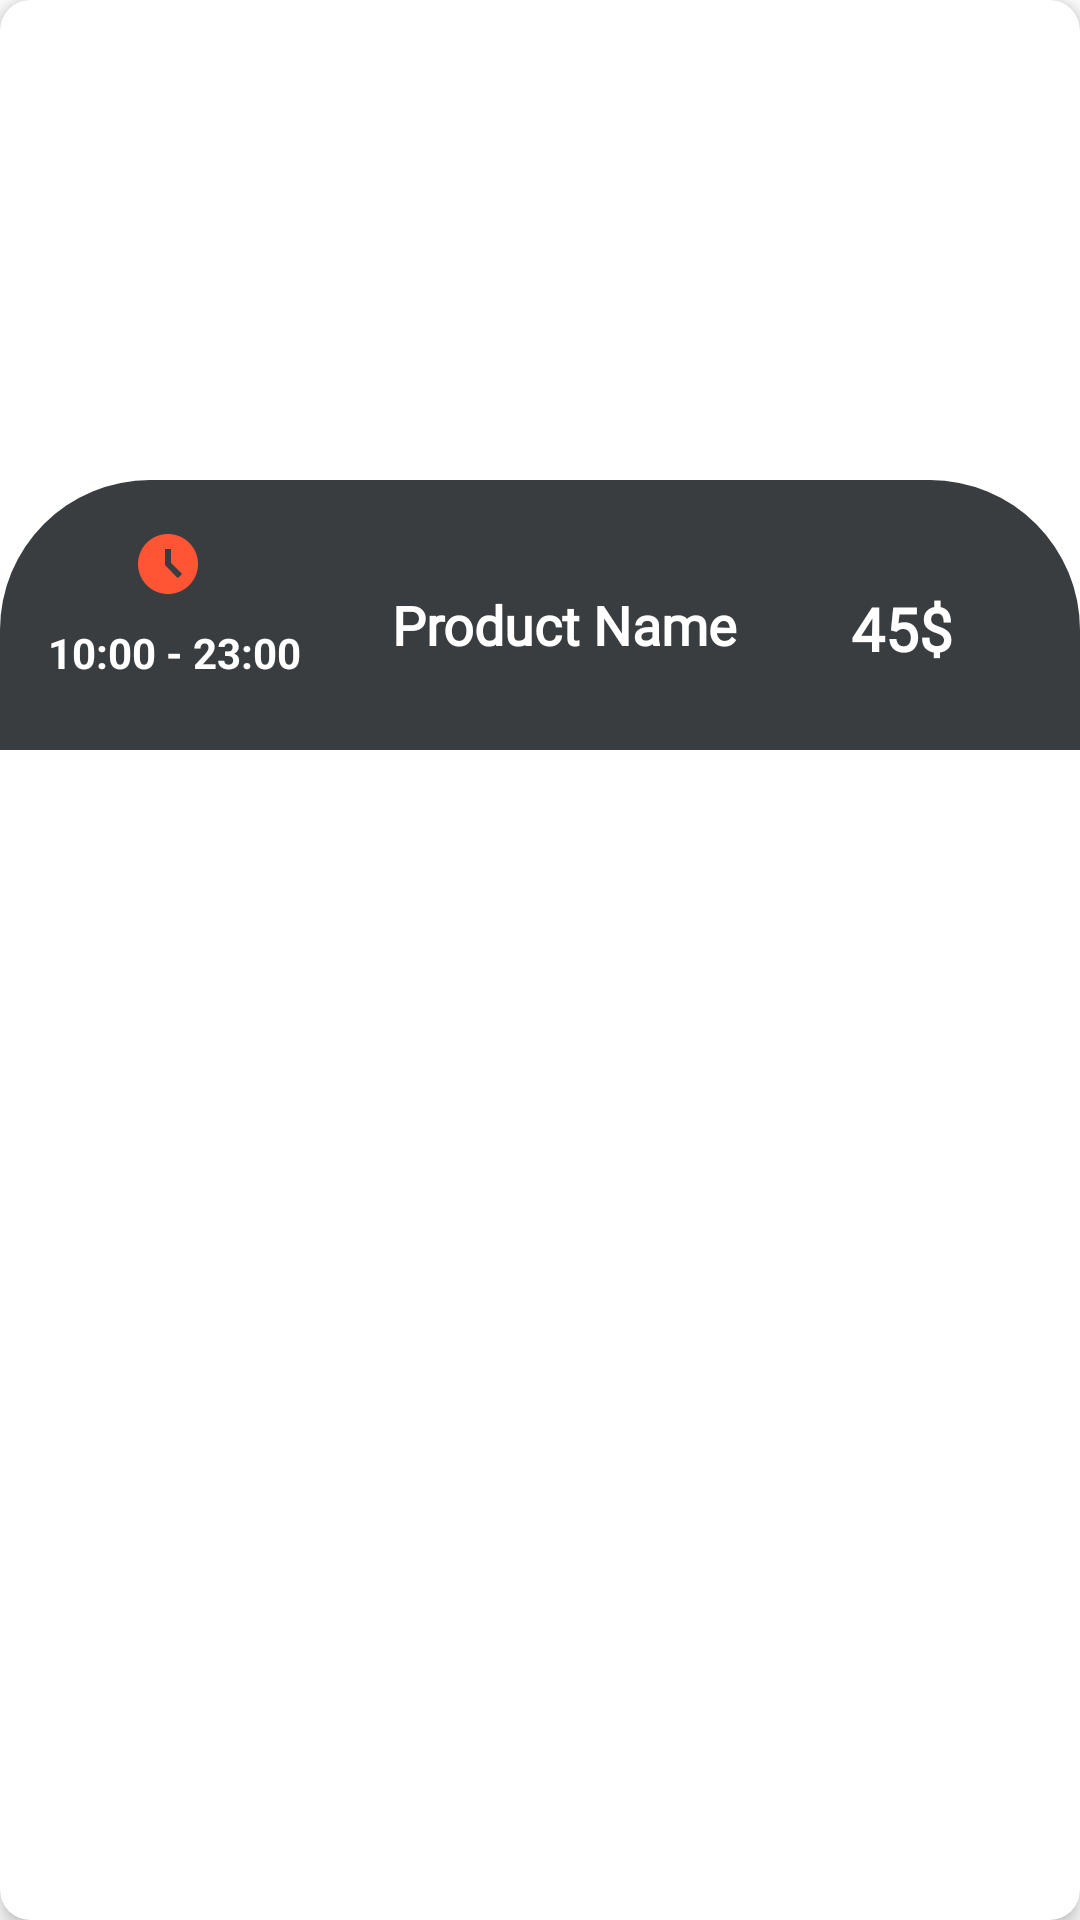

Named icons in this screenshot (1080*1920) and their bounding boxes, bbox=[x1, y1, x2, y2]:
access time: bbox=[138, 534, 198, 594]
